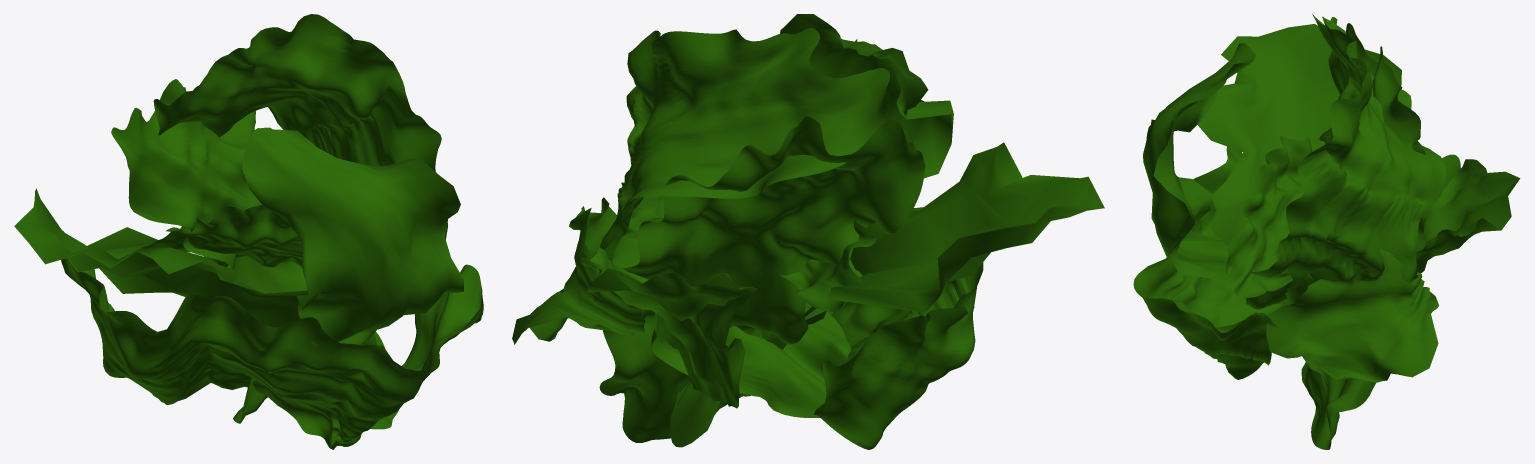
The model's file is Lechuga.glb.
3 views of the same model, side by side, from view 1: azimuth 30°, elevation 25°; view 2: azimuth 150°, elevation 25°; view 3: azimuth 270°, elevation 25° (orthographic). The views are drawn at different scales.
Parts seen in each view (by area): view 1: Plane; view 2: Plane; view 3: Plane.
Boxes of the visible parts, box(x1,y1,x2,y2) form: Plane: box(14, 14, 483, 449); Plane: box(512, 14, 1104, 449); Plane: box(1133, 14, 1520, 449).
Bounding box in the file's own units: 2.24 × 1.95 × 1.87.
